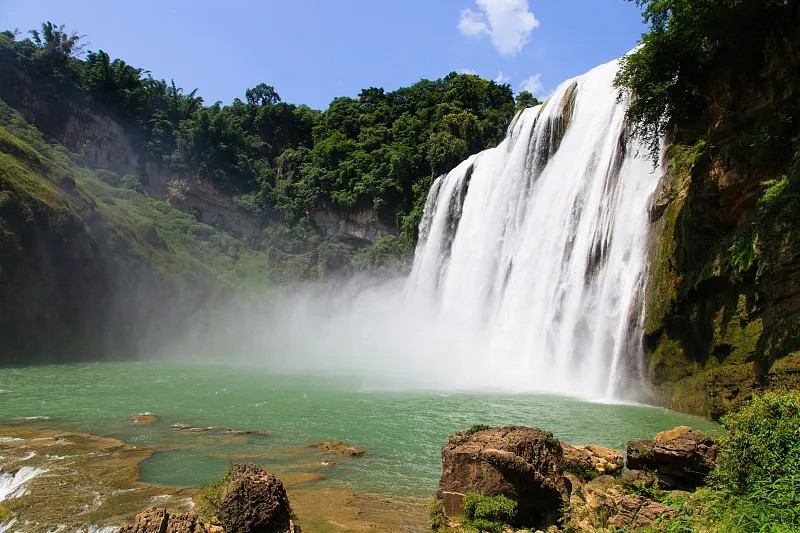Huangguoshu: (396, 42, 665, 402)
